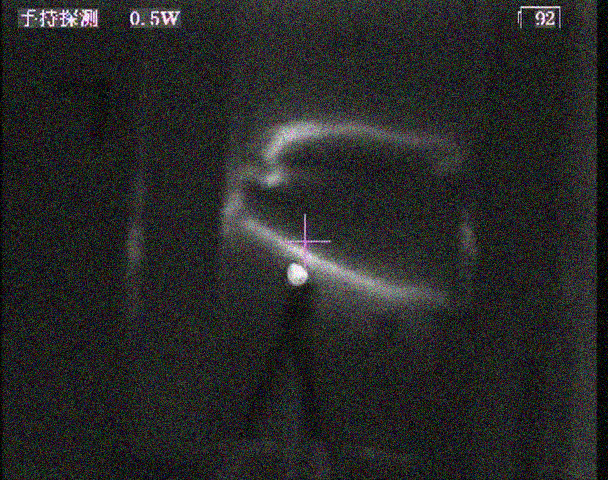my: (284, 260, 310, 286)
